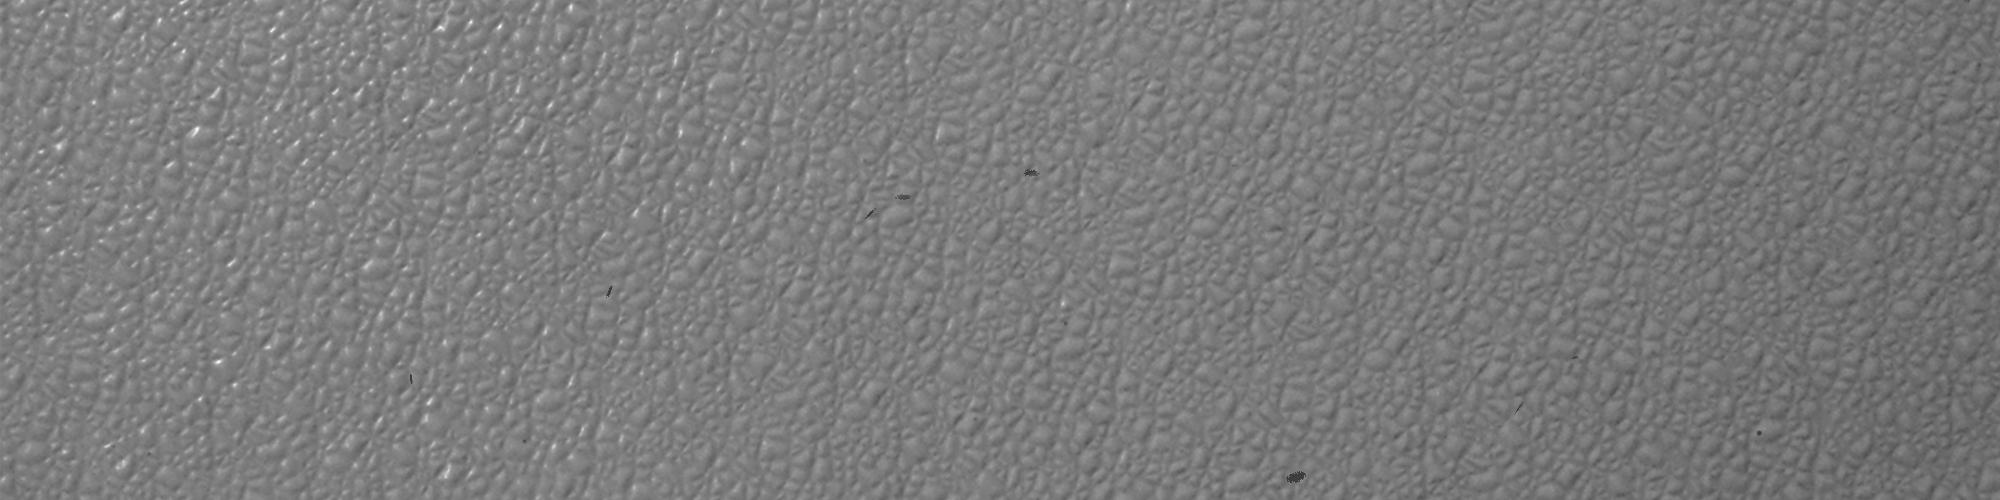Decomposed: (1281, 460, 1312, 491), (856, 200, 884, 227), (1020, 161, 1043, 187), (599, 284, 619, 304), (898, 193, 909, 208), (403, 371, 415, 385)
